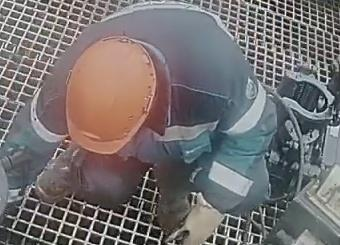gloves: (165, 193, 230, 245)
helmet: (64, 35, 166, 155)
vest: (41, 1, 254, 159)
